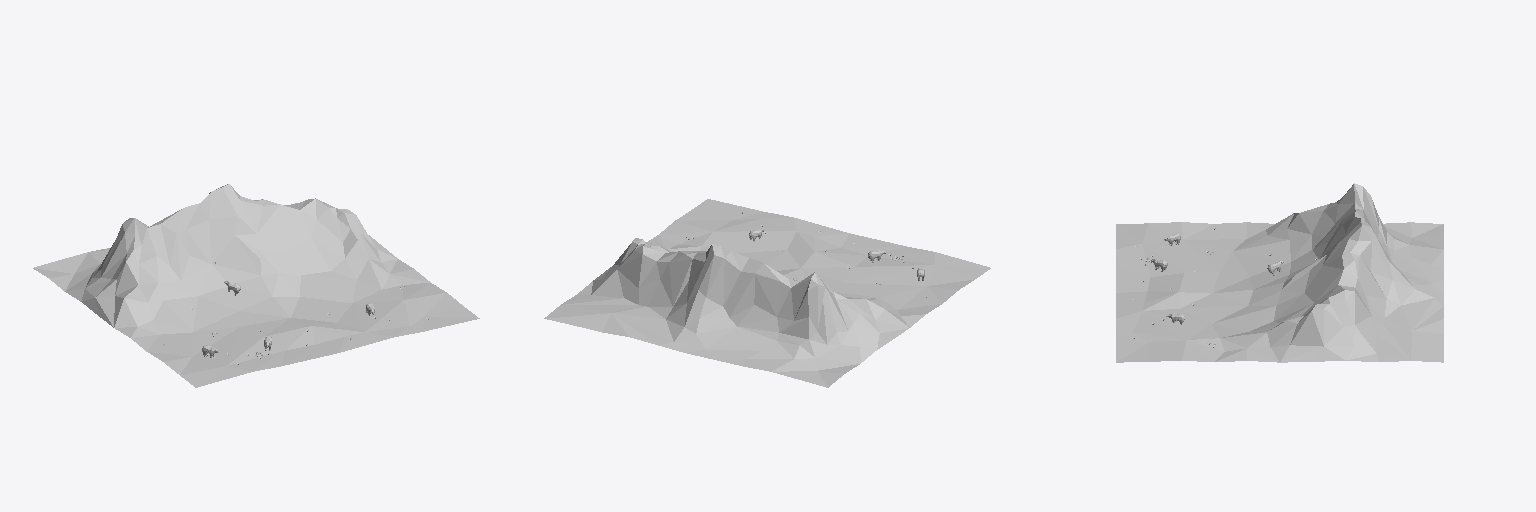
File: lions island.obj
The picture shows the model from 3 angles: view 1: azimuth 30°, elevation 25°; view 2: azimuth 150°, elevation 25°; view 3: azimuth 270°, elevation 25°; orthographic projection.
Visible parts, largest first — view 1: terrain-mountain-range_1; view 2: terrain-mountain-range_1; view 3: terrain-mountain-range_1.
Boxes of the visible parts, x1=… form: terrain-mountain-range_1: x1=33, y1=184, x2=479, y2=387; terrain-mountain-range_1: x1=544, y1=199, x2=990, y2=387; terrain-mountain-range_1: x1=1116, y1=183, x2=1443, y2=362.
Size of the model in its own units: 60 by 15.56 by 60.